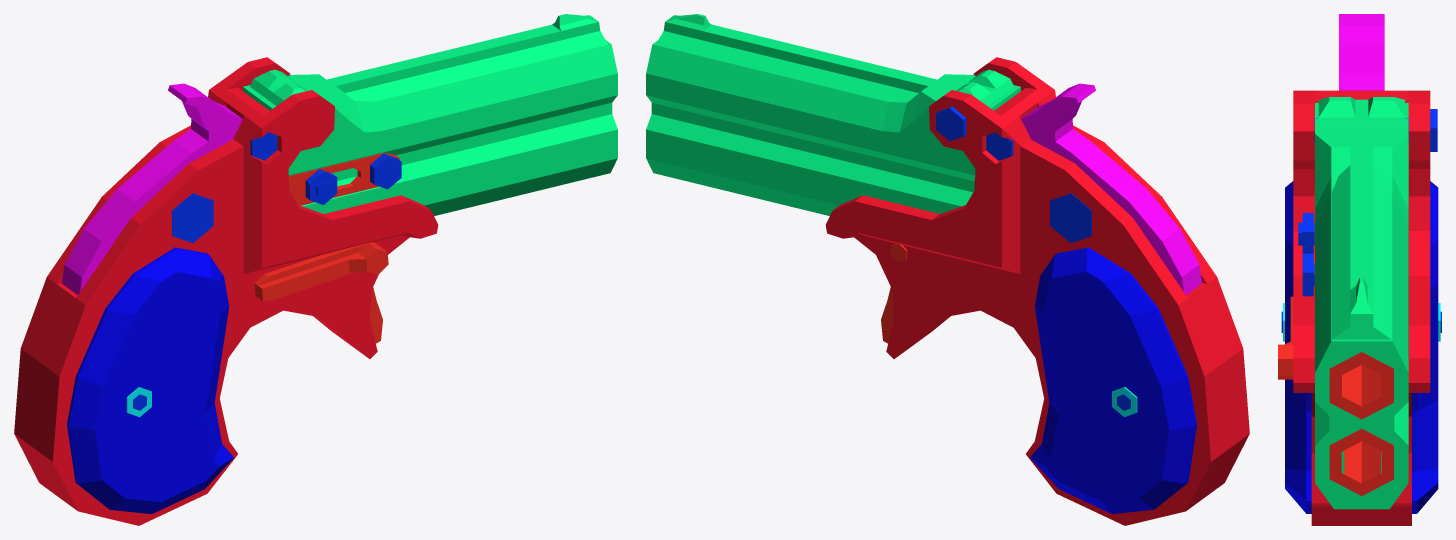
File: pistol_msi.fbx
3 renders of one model, left to right at view 1: azimuth 30°, elevation 25°; view 2: azimuth 150°, elevation 25°; view 3: azimuth 270°, elevation 25°, orthographic. The views are drawn at different scales.
Visible parts, largest first — view 1: Cylinder.000; view 2: Cylinder.000; view 3: Cylinder.000.
Part boxes in pixels (x1=…): Cylinder.000: x1=14, y1=14, x2=617, y2=525; Cylinder.000: x1=646, y1=14, x2=1249, y2=525; Cylinder.000: x1=1278, y1=14, x2=1441, y2=525.
Bounding box in the file's own units: 448 × 307 × 86.62.
